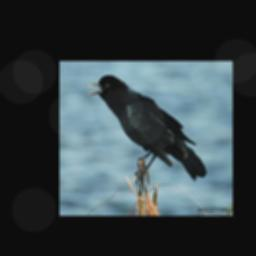Crow: (85, 74, 206, 185)
